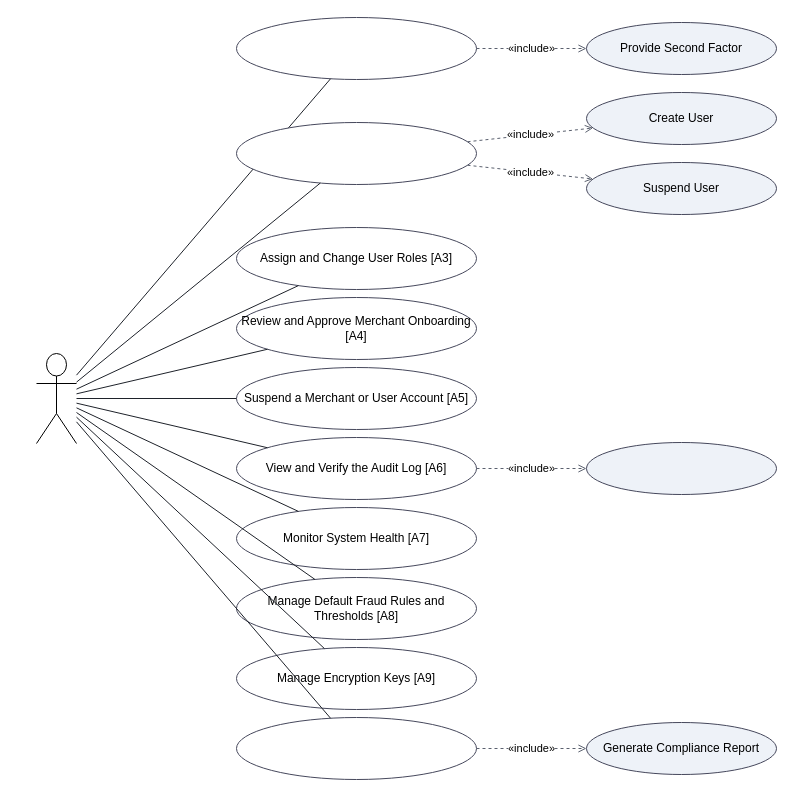
The diagram is 794 pixels wide and 797 high, and some of its shapes have lost their labels. Each missing label, with the centre of its shape:
"Administrator" belongs at (56,398).
"Configure Data Retention and Compliance Reports [A10]" belongs at (356,748).
"Create, Suspend and Manage User Accounts [A2]" belongs at (356,153).
"Sign In to the Admin Console with MFA [A1]" belongs at (356,48).
"Verify Hash Chain" belongs at (681,468).
